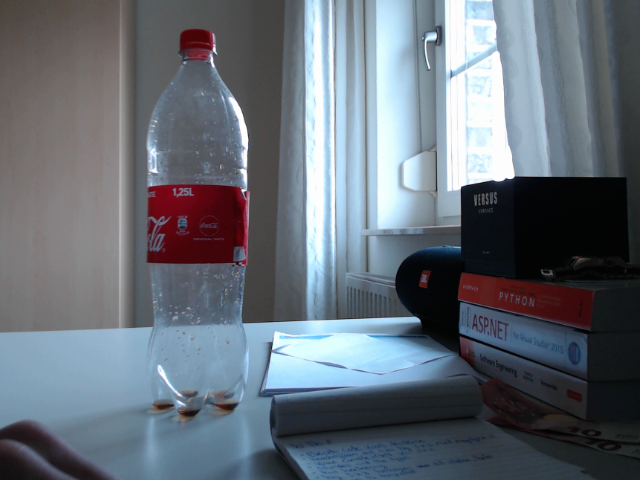bottle: (145, 28, 247, 417)
